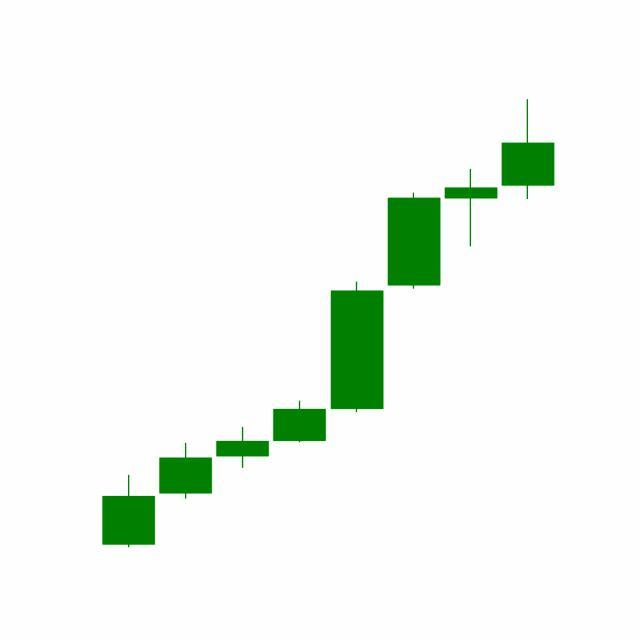Advance Block: (328, 167, 500, 416)
